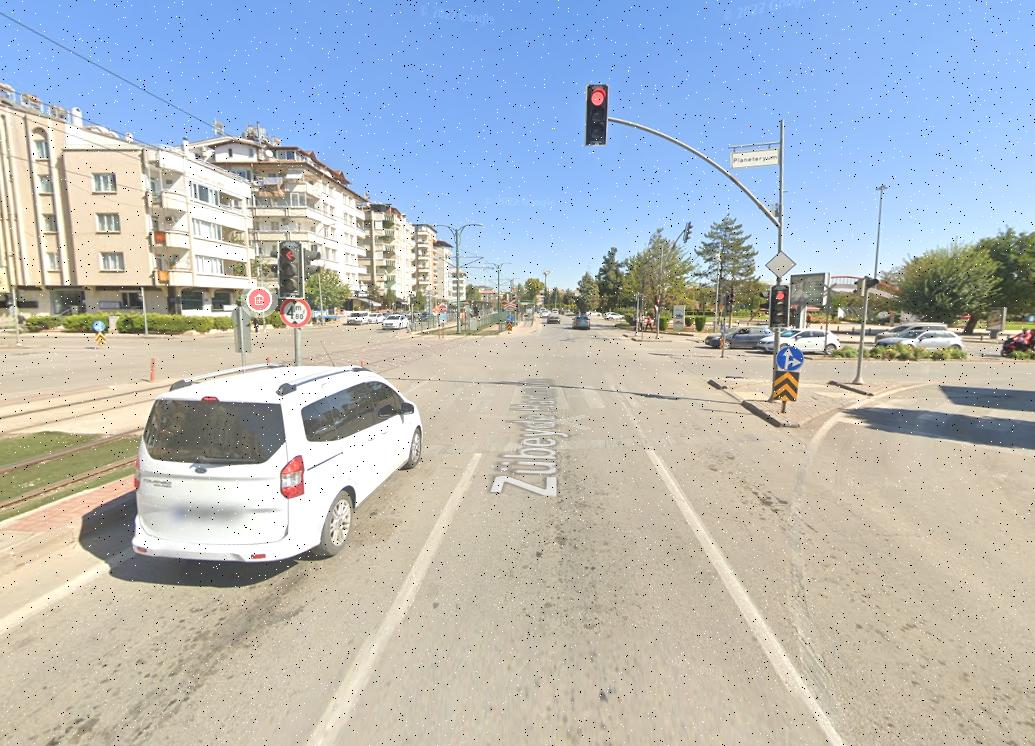redlight: (275, 237, 300, 295), (587, 85, 611, 145), (769, 288, 789, 325)
